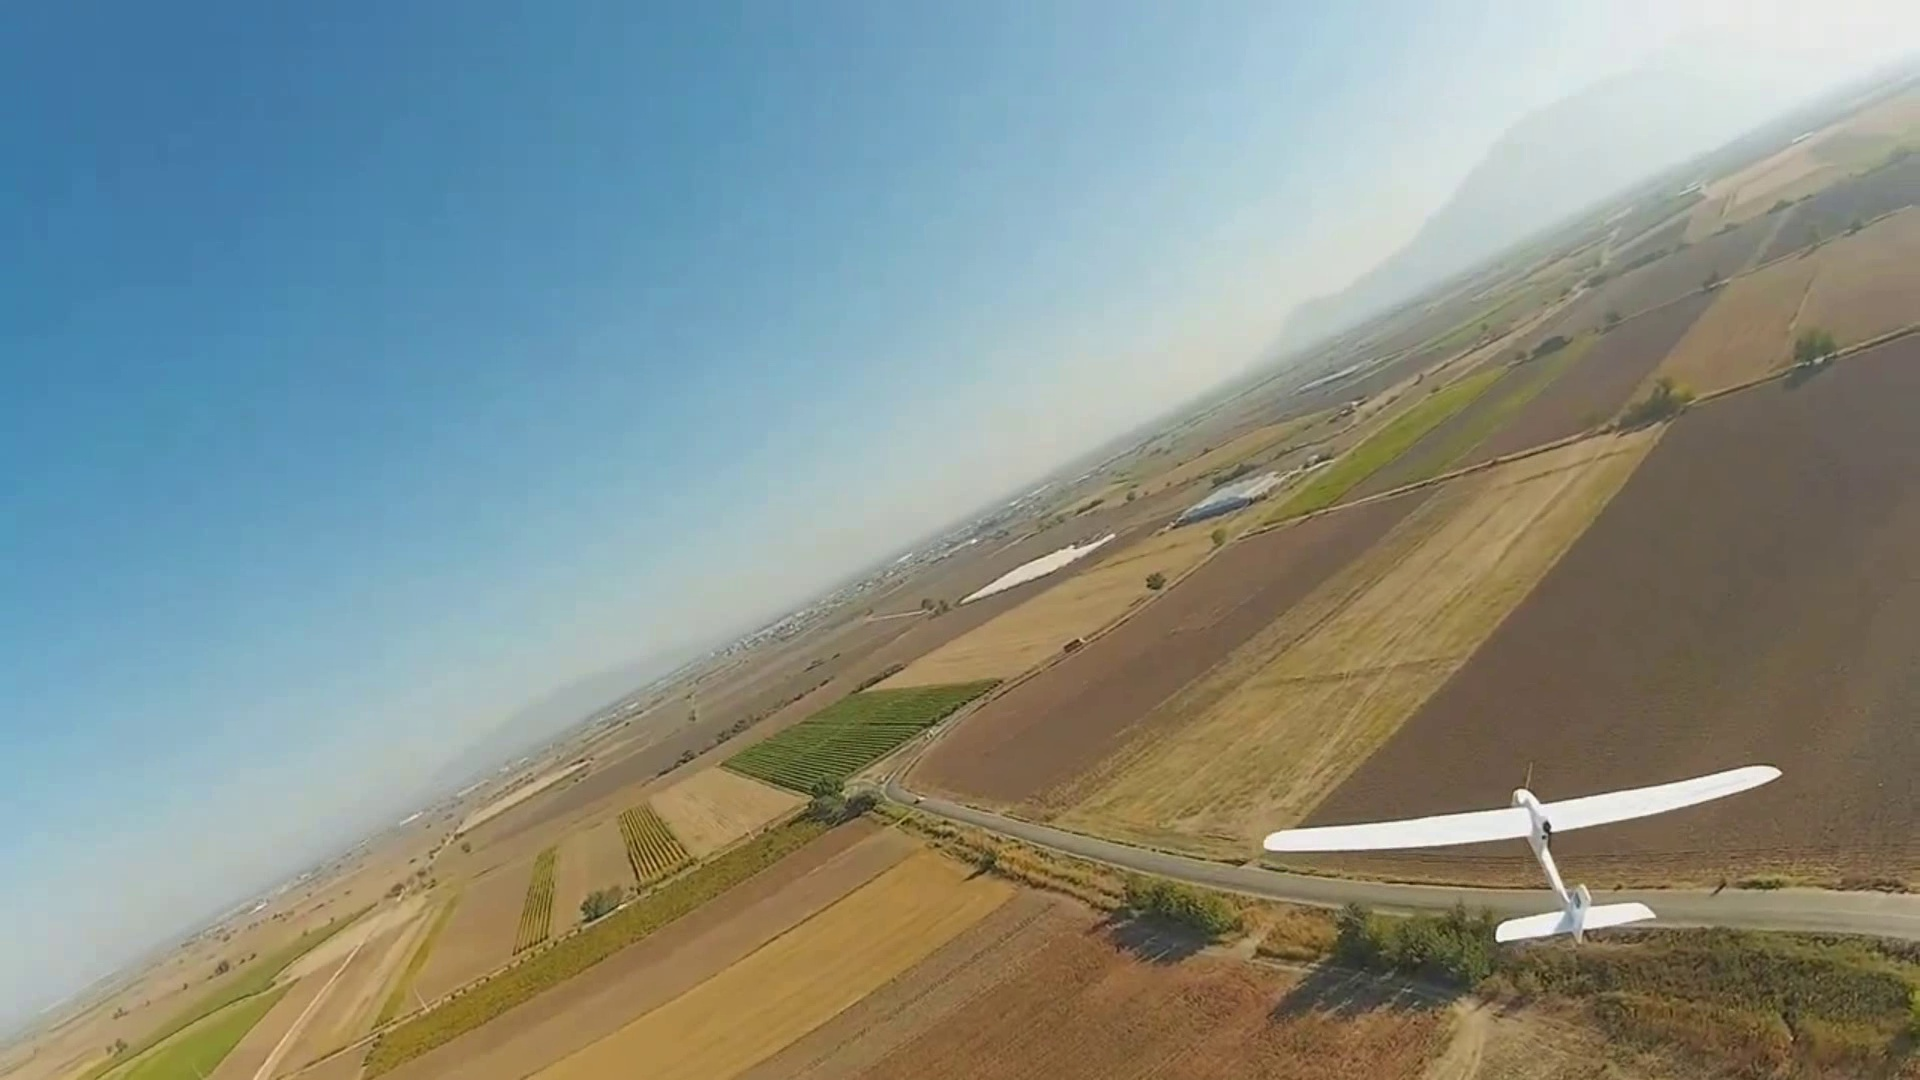airplane: (29, 37, 1917, 957)
